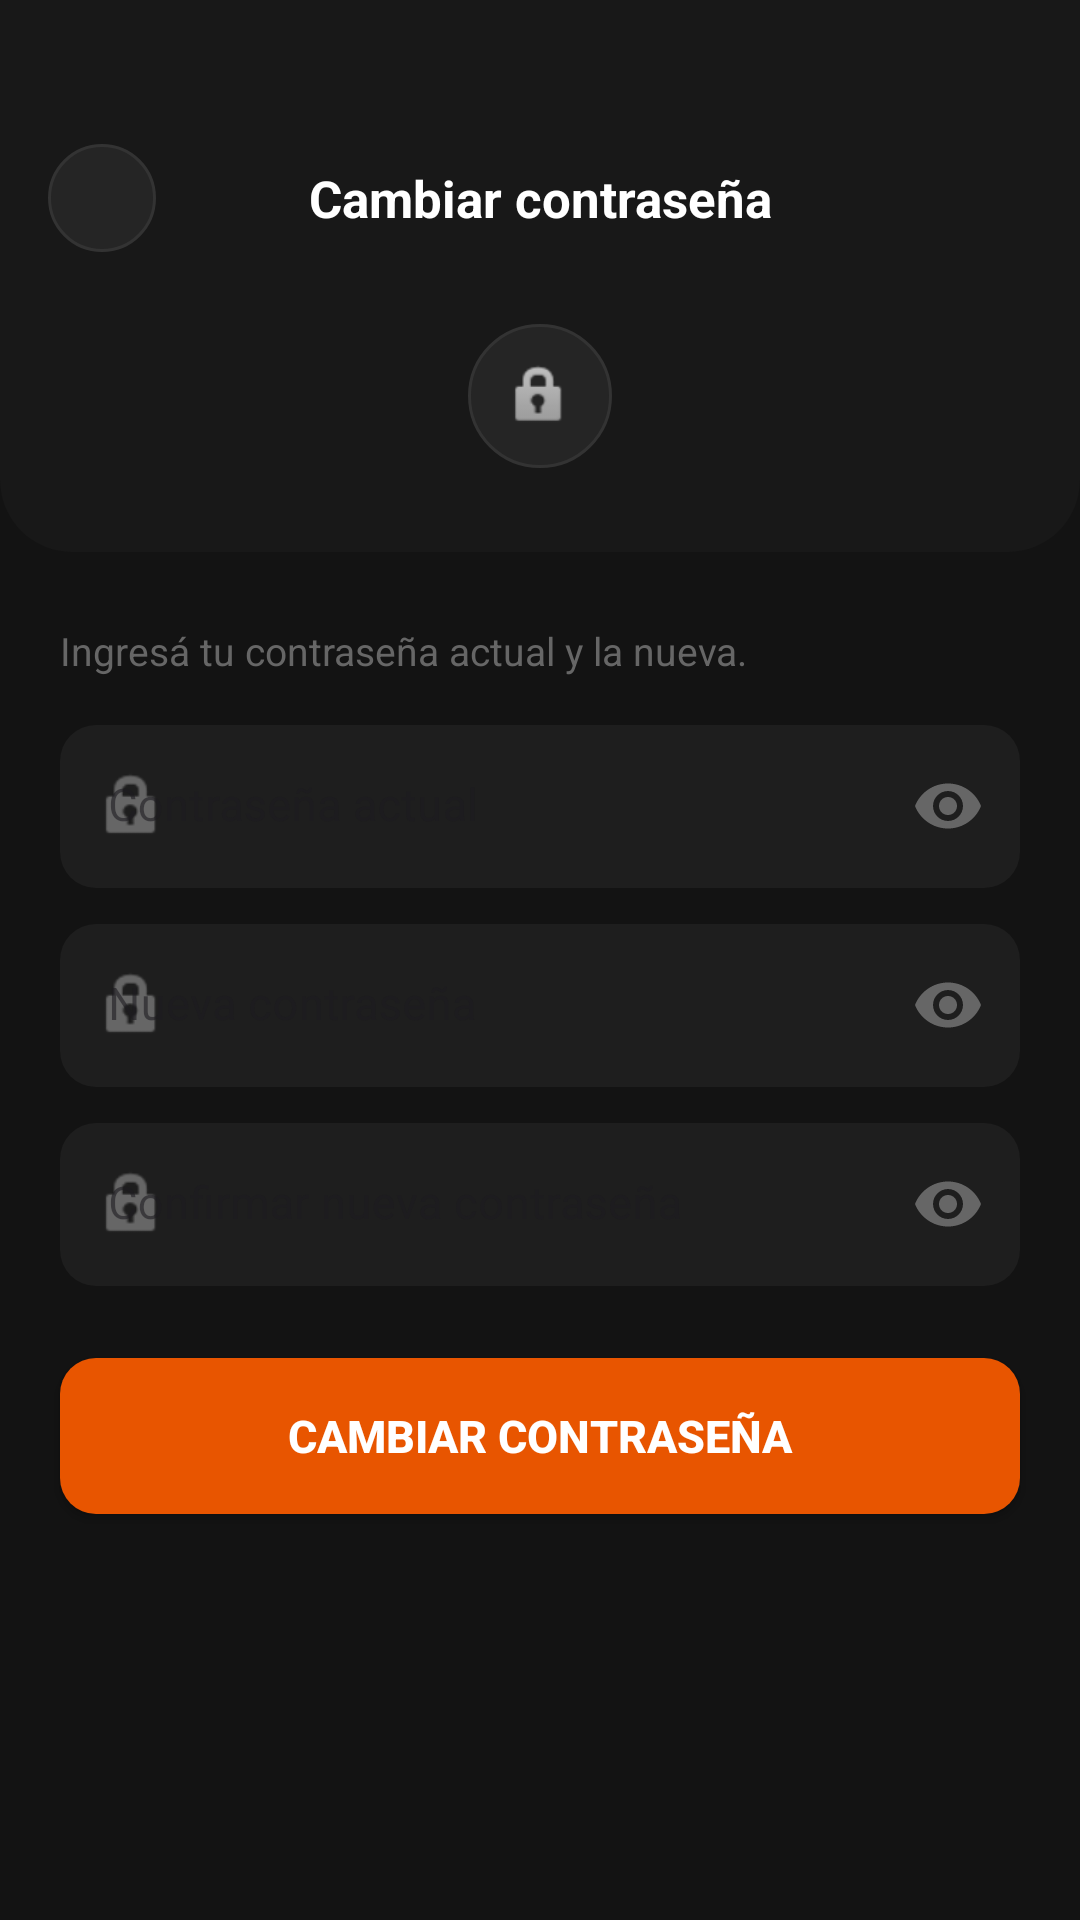

Icon click points for this 1080×1920 phone screenshot, format point (x, y):
lock idle: point (538, 393)
